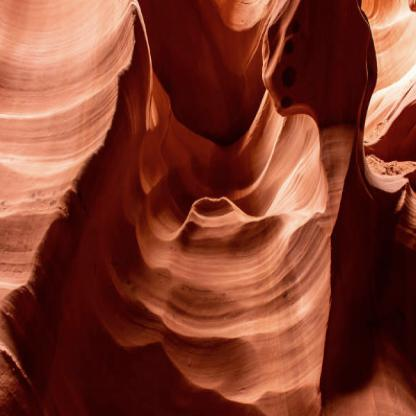Sedimentary_Sandstone: (184, 194, 289, 360), (3, 40, 92, 229), (299, 30, 406, 184), (149, 17, 255, 158)
